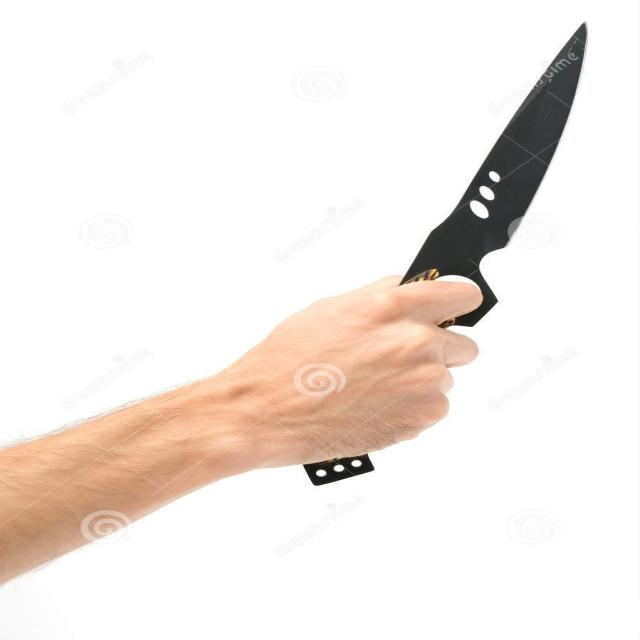knife: (399, 16, 593, 277)
